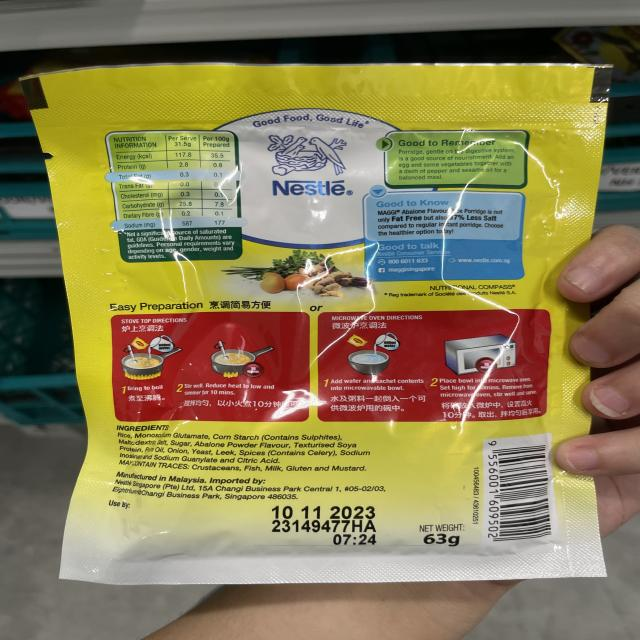object_name: (52, 80, 582, 572)
